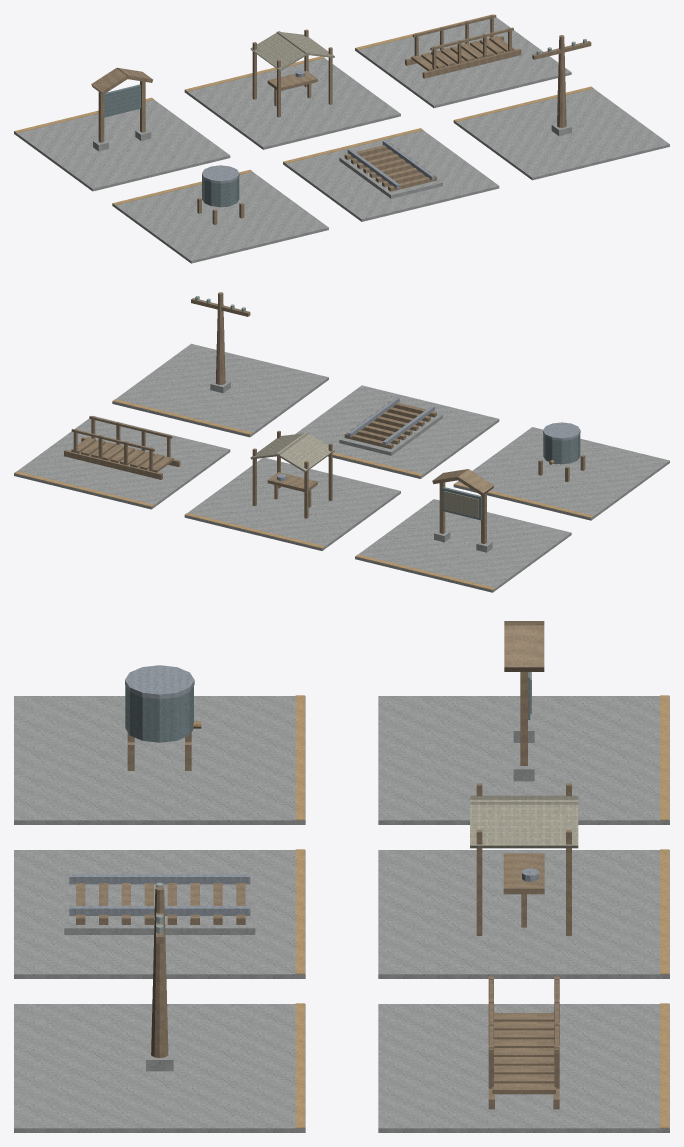
Rendered from level_blockout_kit_wld_01_p05.glb.
The picture shows the model from 3 angles, top to bottom: view 1: azimuth 30°, elevation 25°; view 2: azimuth 150°, elevation 25°; view 3: azimuth 270°, elevation 25°; orthographic projection. The views are drawn at different scales.
Parts seen in each view (by area): view 1: level_blockout_kit_wld_01_p05; view 2: level_blockout_kit_wld_01_p05; view 3: level_blockout_kit_wld_01_p05.
Part boxes in pixels (x1,y1,x2,y2): level_blockout_kit_wld_01_p05: [14, 14, 669, 263]; level_blockout_kit_wld_01_p05: [14, 292, 669, 592]; level_blockout_kit_wld_01_p05: [14, 621, 669, 1132].
Bounding box in the file's own units: 19.65 × 3.87 × 12.6.
8 materials, 8 textured.
